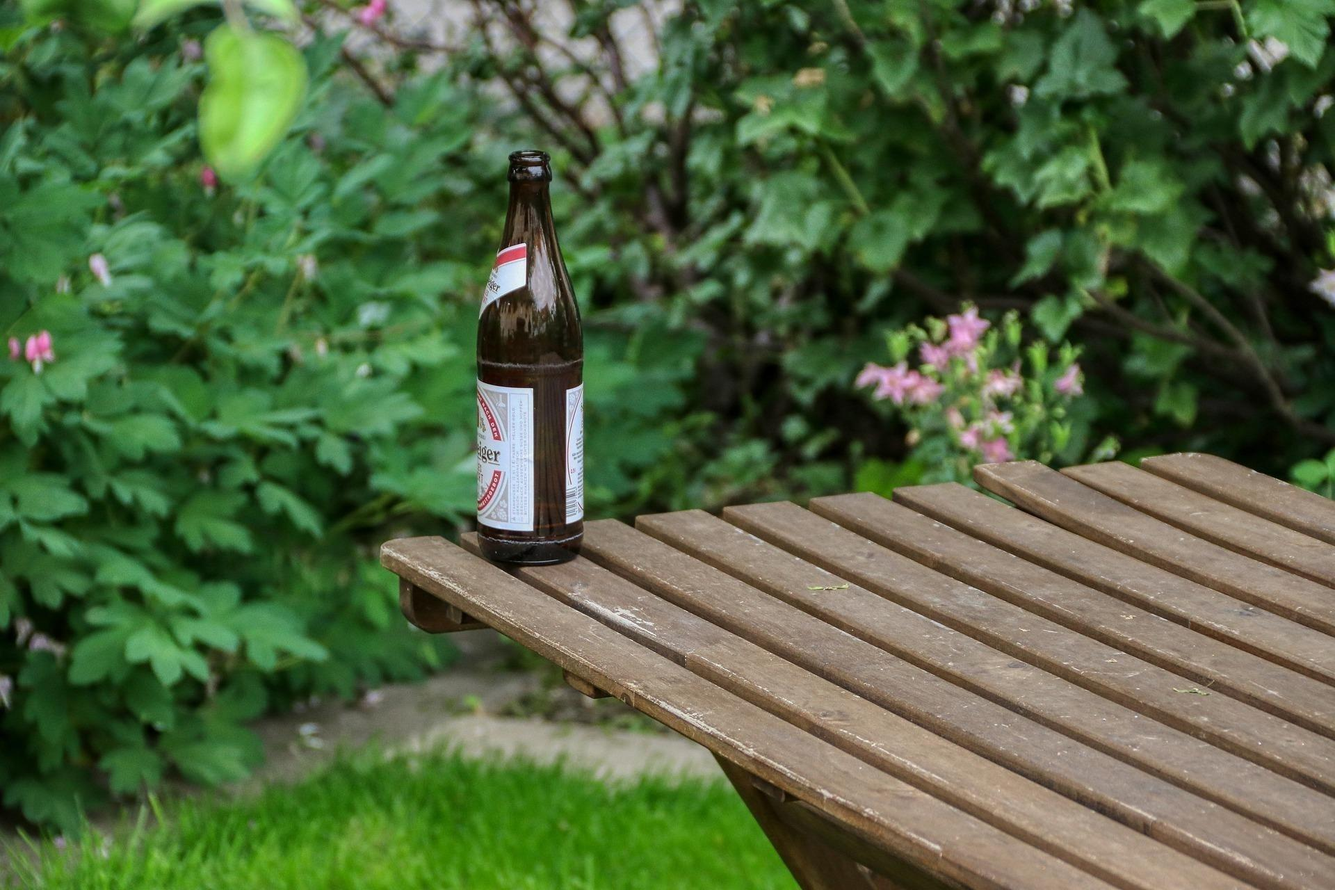bottle-glass: (467, 145, 595, 571)
